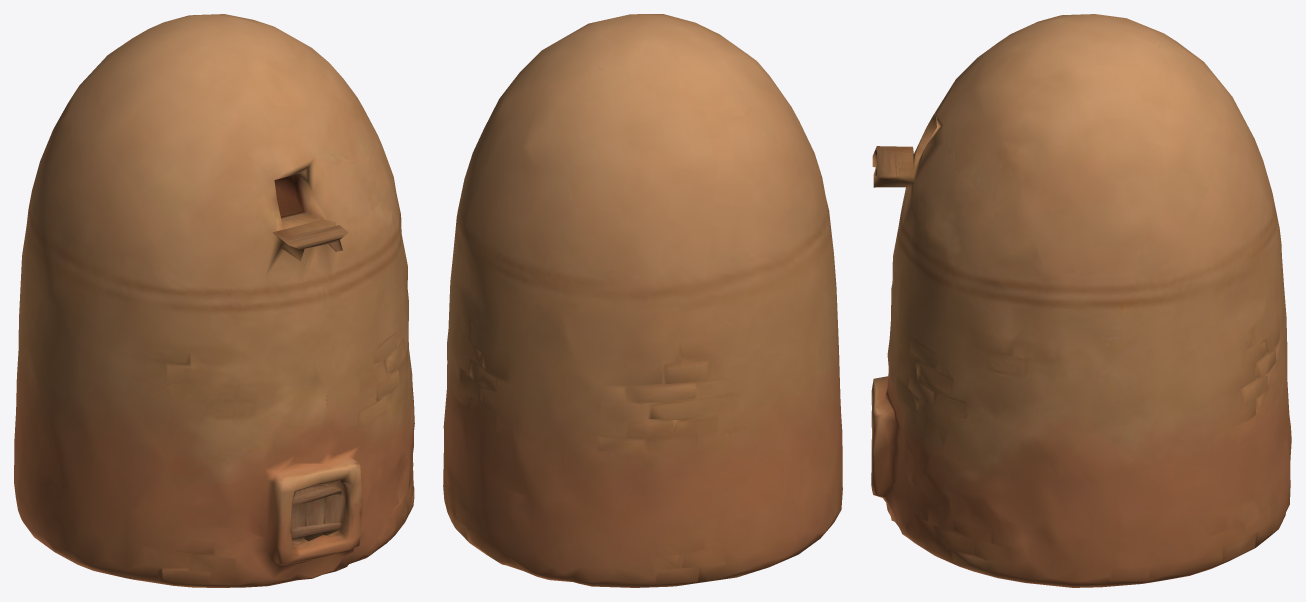
Rendered from granary.glb.
The picture shows the model from 3 angles, left to right: view 1: azimuth 30°, elevation 25°; view 2: azimuth 150°, elevation 25°; view 3: azimuth 270°, elevation 25°; orthographic projection.
Visible parts, largest first — view 1: tripo_node_03b068d7-b5a8-4dcc-b873-213e3be2e5e6; view 2: tripo_node_03b068d7-b5a8-4dcc-b873-213e3be2e5e6; view 3: tripo_node_03b068d7-b5a8-4dcc-b873-213e3be2e5e6.
Part boxes in pixels (x1=…): tripo_node_03b068d7-b5a8-4dcc-b873-213e3be2e5e6: x1=14, y1=14, x2=414, y2=587; tripo_node_03b068d7-b5a8-4dcc-b873-213e3be2e5e6: x1=443, y1=14, x2=842, y2=587; tripo_node_03b068d7-b5a8-4dcc-b873-213e3be2e5e6: x1=871, y1=14, x2=1291, y2=587.
Size of the model in its own units: 0.74 by 0.9818 by 0.7771.
Materials: 1 (1 with a texture image).
